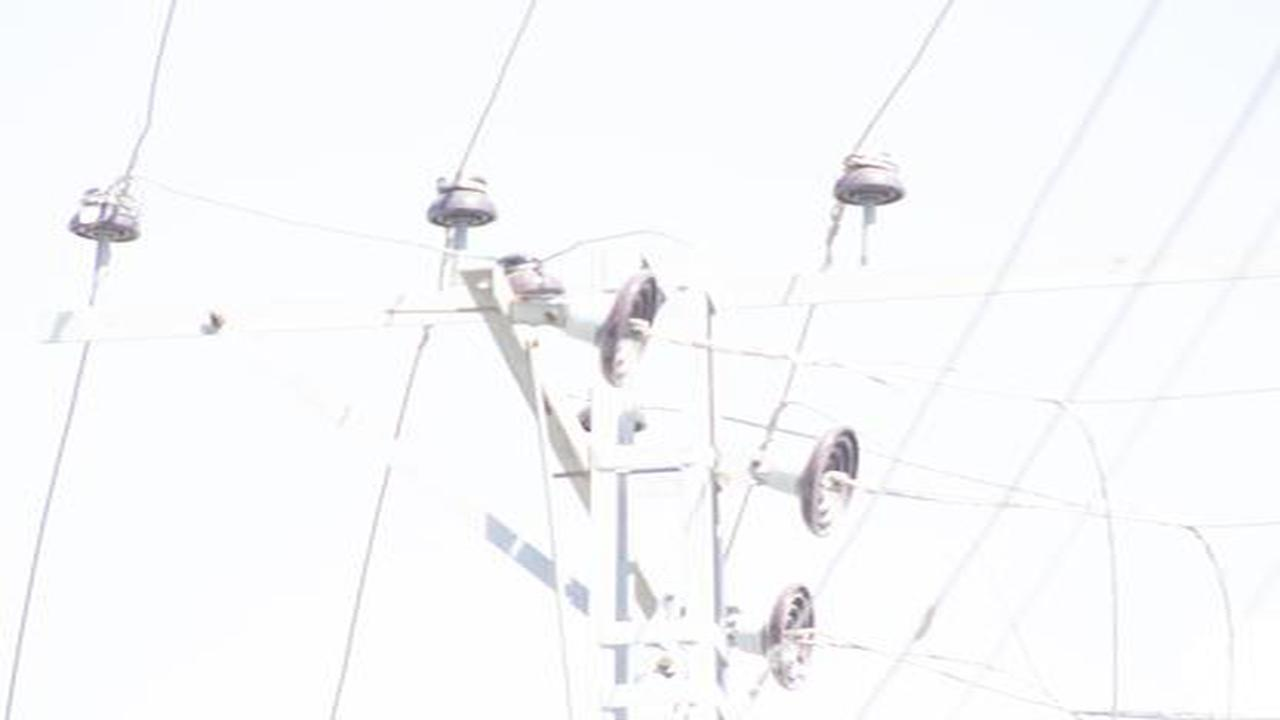insulator_disc: (600, 262, 667, 389), (799, 425, 870, 533), (762, 580, 822, 695)
insulator_pin: (420, 167, 505, 237), (828, 142, 911, 209), (65, 182, 147, 248), (501, 249, 565, 307)
